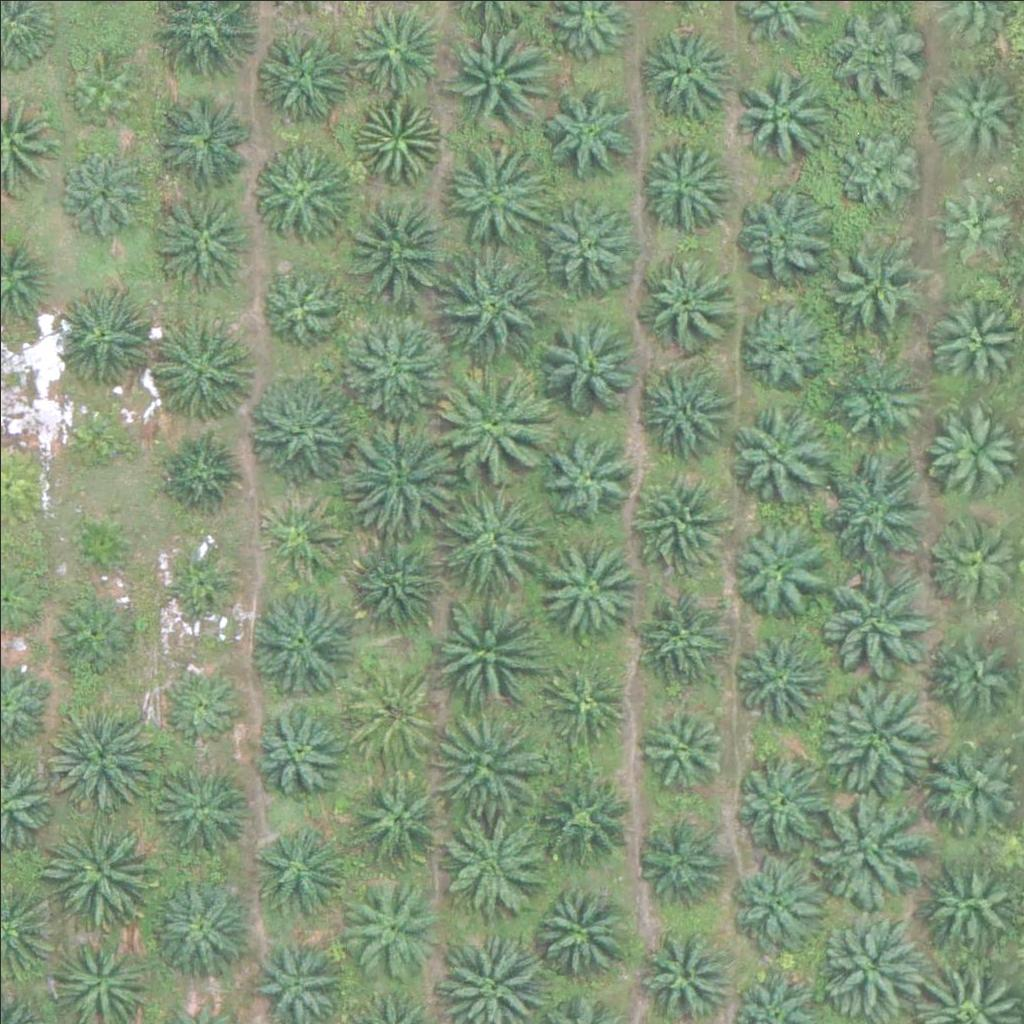Kelapa_Sawit: (439, 478, 552, 592), (430, 706, 543, 820), (434, 132, 547, 245), (435, 248, 548, 361), (46, 700, 159, 813), (45, 812, 158, 925), (436, 799, 549, 912), (822, 679, 935, 792), (809, 795, 922, 908), (818, 909, 931, 1022), (335, 310, 447, 424), (429, 603, 541, 717), (822, 452, 934, 565), (441, 28, 553, 141), (438, 365, 550, 478), (348, 417, 460, 530), (343, 196, 455, 309), (245, 376, 357, 489), (246, 586, 358, 699), (816, 563, 928, 676), (923, 404, 1023, 505), (828, 352, 928, 453), (825, 241, 925, 342), (826, 3, 926, 104), (731, 518, 831, 619), (725, 64, 825, 165), (635, 21, 735, 122), (633, 250, 733, 351), (632, 474, 732, 575), (535, 423, 635, 524), (537, 313, 637, 414), (542, 77, 642, 178), (250, 22, 350, 123), (251, 146, 351, 247), (149, 182, 249, 283), (151, 91, 251, 192), (58, 284, 158, 385), (153, 871, 253, 972), (151, 758, 251, 859), (249, 699, 349, 800), (343, 881, 443, 982), (346, 771, 446, 872), (630, 586, 730, 687), (731, 753, 831, 854), (733, 627, 833, 728), (913, 847, 1013, 948), (726, 400, 826, 500), (735, 183, 835, 283), (632, 135, 732, 235), (625, 364, 725, 464), (541, 533, 641, 633), (538, 196, 638, 296), (345, 529, 445, 629), (152, 321, 252, 421), (340, 663, 440, 763), (529, 881, 629, 981), (529, 767, 629, 867), (626, 816, 726, 916), (725, 852, 825, 952), (928, 72, 1016, 160), (833, 122, 921, 210), (350, 9, 438, 97), (158, 658, 246, 746), (255, 826, 343, 914), (256, 935, 344, 1023), (542, 660, 630, 748), (640, 698, 728, 786), (932, 631, 1020, 719), (935, 178, 1022, 267), (256, 493, 343, 581), (739, 301, 826, 389), (353, 101, 440, 189), (252, 259, 339, 347), (157, 429, 244, 517), (59, 152, 146, 240), (53, 586, 140, 674), (65, 506, 140, 582), (61, 398, 136, 474), (159, 536, 234, 611), (64, 51, 139, 126)
